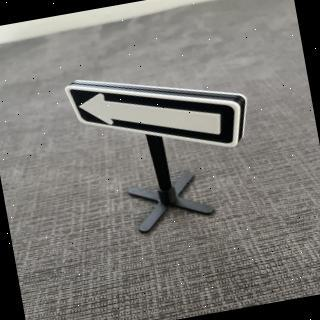sign_oneway_left: (66, 54, 253, 176)
